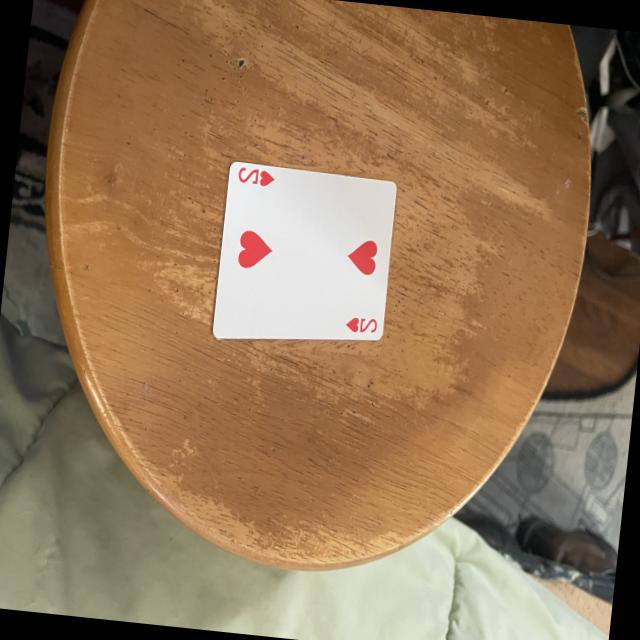2 of hearts: (209, 158, 397, 339)
